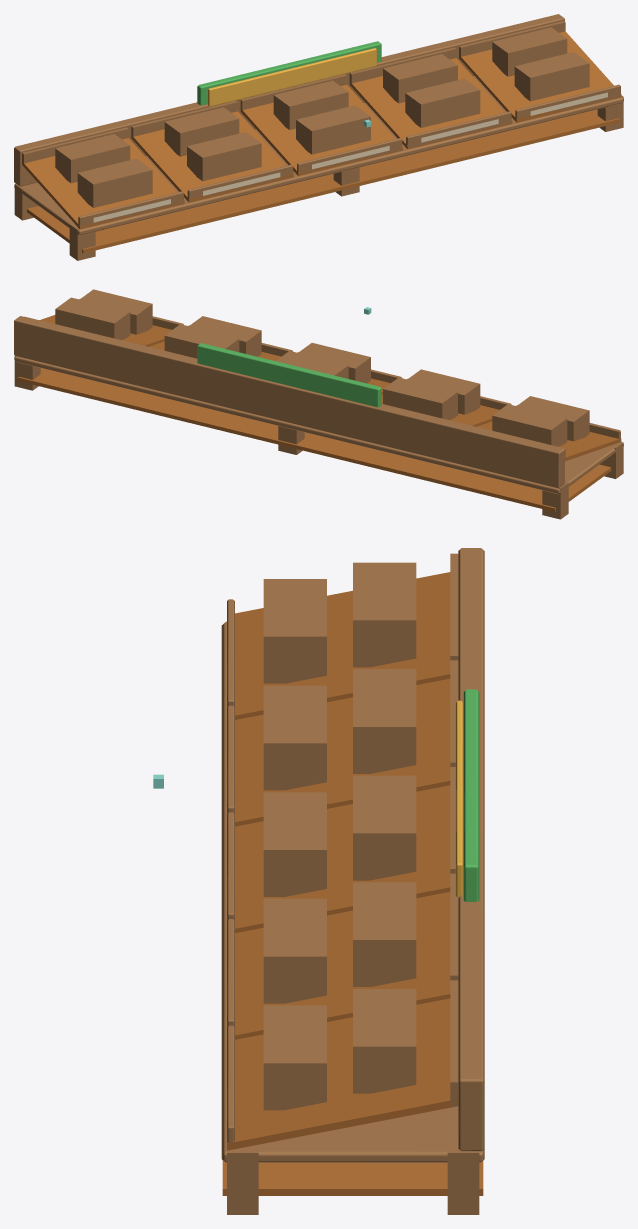
File: CM_Fixture_ProduceStand_Far.fbx
3 renders of one model, top to bottom at view 1: azimuth 30°, elevation 25°; view 2: azimuth 150°, elevation 25°; view 3: azimuth 270°, elevation 25°, orthographic. The views are drawn at different scales.
Parts seen in each view (by area): view 1: Body; view 2: Body; view 3: Body.
Part boxes in pixels (x1,y1,x2,y2): Body: (14,14,623,260); Body: (14,289,623,519); Body: (221,548,484,1214).
Bounding box in the file's own units: 24 × 6.3 × 3.6.
1 material, 1 textured.
